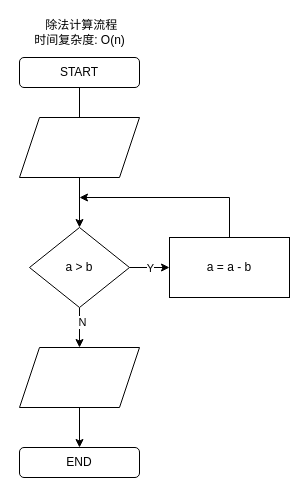
This 307x495 diagram has some shape labels left out. Each missing label, with the centre of its shape:
"Dividend: a, Divisor: b" belongs at pixel 79 147.
"Quotient: a" belongs at pixel 79 377.
